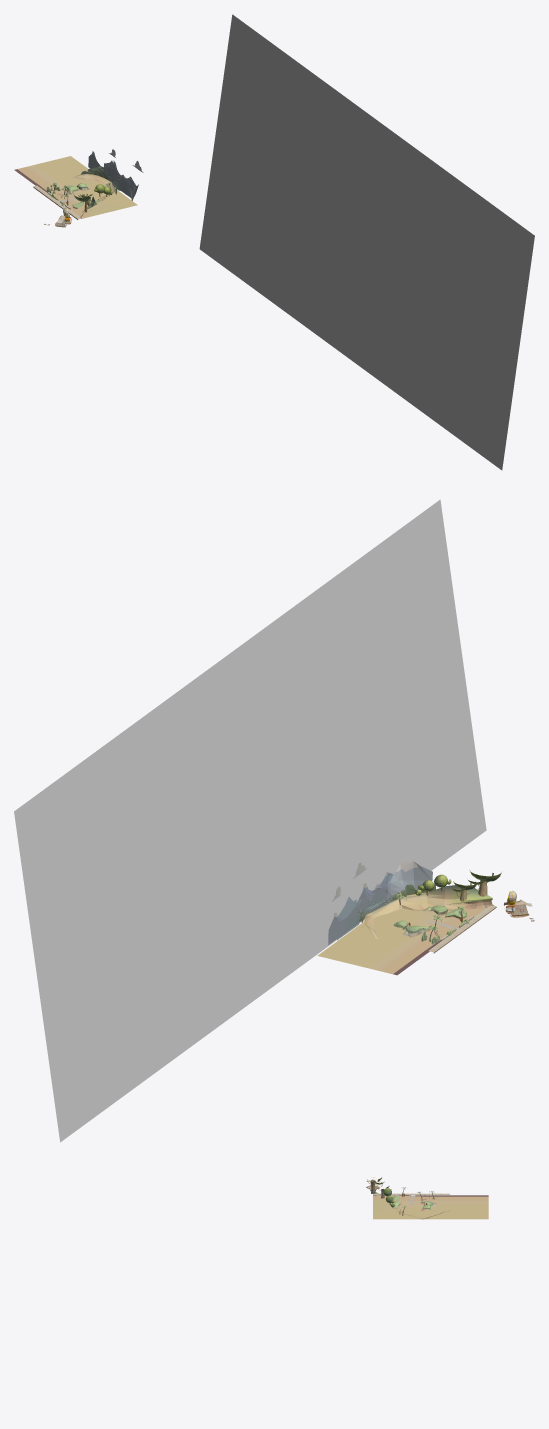
The model's file is BenYardCombined.glb.
The picture shows the model from 3 angles, top to bottom: view 1: azimuth 30°, elevation 25°; view 2: azimuth 150°, elevation 25°; view 3: azimuth 270°, elevation 25°; orthographic projection. The views are drawn at different scales.
Parts seen in each view (by area): view 1: Background_Sky, static_Hills1, Background_Jungle; view 2: Background_Sky, static_Hills1, Background_Jungle, Static_Elements; view 3: static_Hills1.
Part boxes in pixels (<box>): Background_Sky: <box>199,14,534,470</box>; static_Hills1: <box>14,156,137,219</box>; Background_Jungle: <box>73,149,143,212</box>; Background_Sky: <box>14,499,486,1142</box>; static_Hills1: <box>317,884,496,975</box>; Background_Jungle: <box>328,861,501,944</box>; Static_Elements: <box>393,894,473,944</box>; static_Hills1: <box>373,1191,488,1219</box>.
Size of the model in its own units: 50.33 by 39.14 by 94.59.
